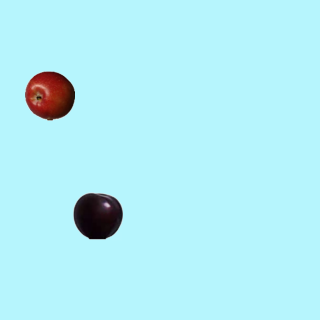Apple Braeburn: (24, 70, 74, 120)
Cherry Wax Black: (72, 190, 122, 240)
